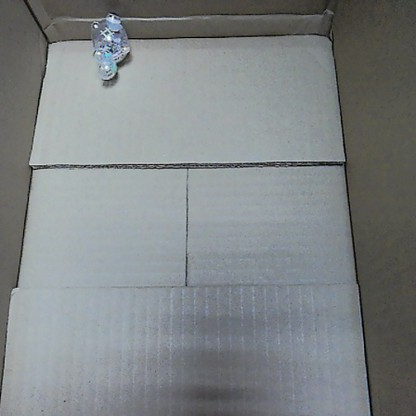whitefish: (82, 9, 132, 84)
